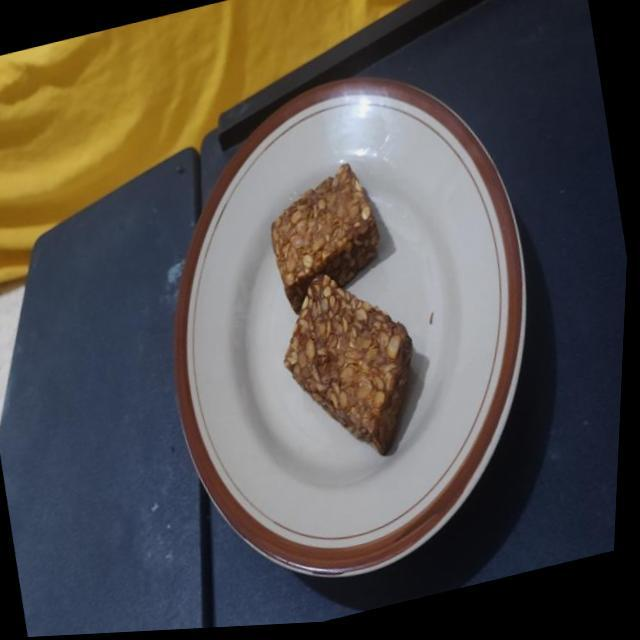tempe_goreng: (284, 276, 413, 454), (270, 164, 380, 318)
